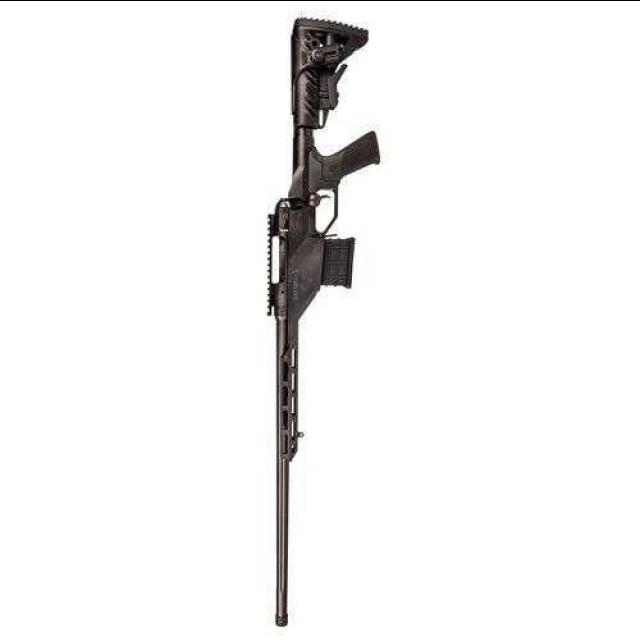heavyweapon: (239, 2, 403, 640)
